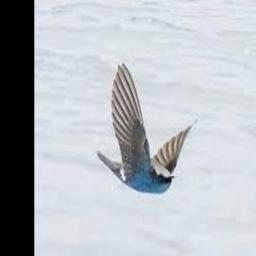Swallow: (96, 65, 196, 196)
